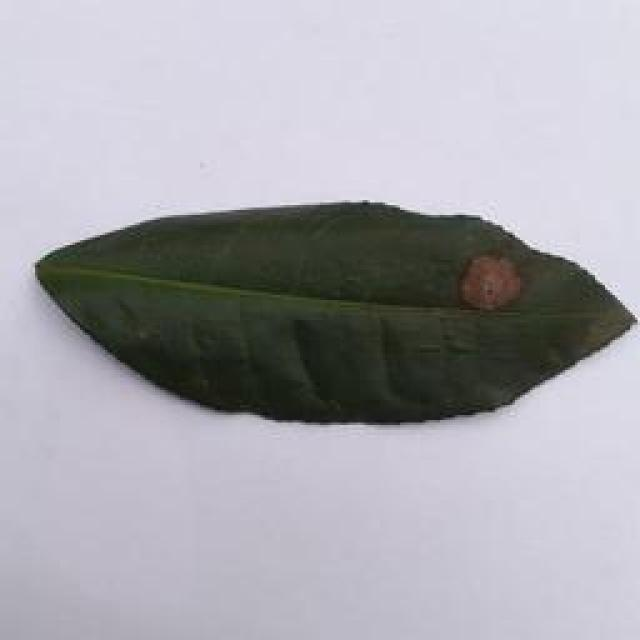Gray Blight: (18, 193, 638, 433)
